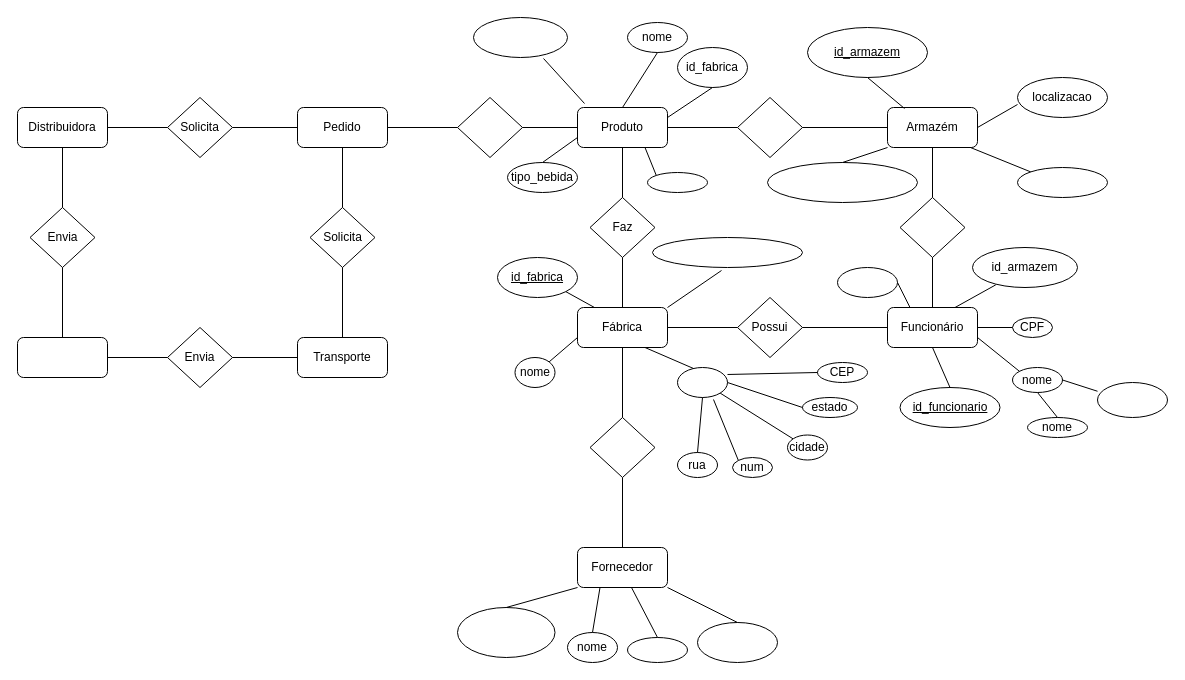
Some shapes in this 1185 by 680 pixel diagram are drawn without their labels. Each missing label, with the box of its shape:
capacidade: (1016, 166, 1108, 198)
capacidade_producao: (652, 236, 802, 268)
cargo: (836, 266, 898, 298)
Cliente: (16, 336, 108, 378)
CNPJ: (626, 636, 688, 662)
Controla: (899, 196, 965, 258)
endereco: (676, 366, 728, 398)
Extrai: (456, 96, 522, 158)
Fornece: (589, 416, 655, 478)
id_fornecedor: (456, 606, 555, 658)
id_produto: (472, 16, 568, 58)
preco: (646, 172, 708, 192)
Retira: (736, 96, 802, 158)
sobrenome: (1096, 382, 1168, 418)
tipo_material: (696, 622, 778, 662)
tipo_produto_armazenado: (766, 162, 918, 202)
